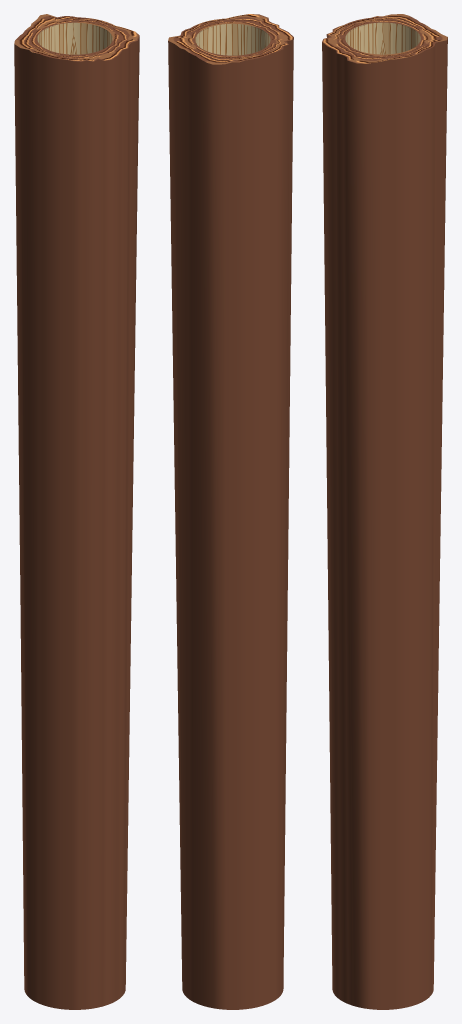
File: trunk.fbx
3 views of the same model, side by side, from view 1: azimuth 90°, elevation 25°; view 2: azimuth 150°, elevation 25°; view 3: azimuth 330°, elevation 25° (orthographic).
Parts seen in each view (by area): view 1: pCylinder1; view 2: pCylinder1; view 3: pCylinder1.
Part boxes in pixels (bbox=[...]): pCylinder1: bbox=[14, 14, 139, 1009]; pCylinder1: bbox=[168, 14, 293, 1009]; pCylinder1: bbox=[322, 14, 447, 1009].
Size of the model in its own units: 22.14 by 207 by 24.73.
1 material, 1 textured.
